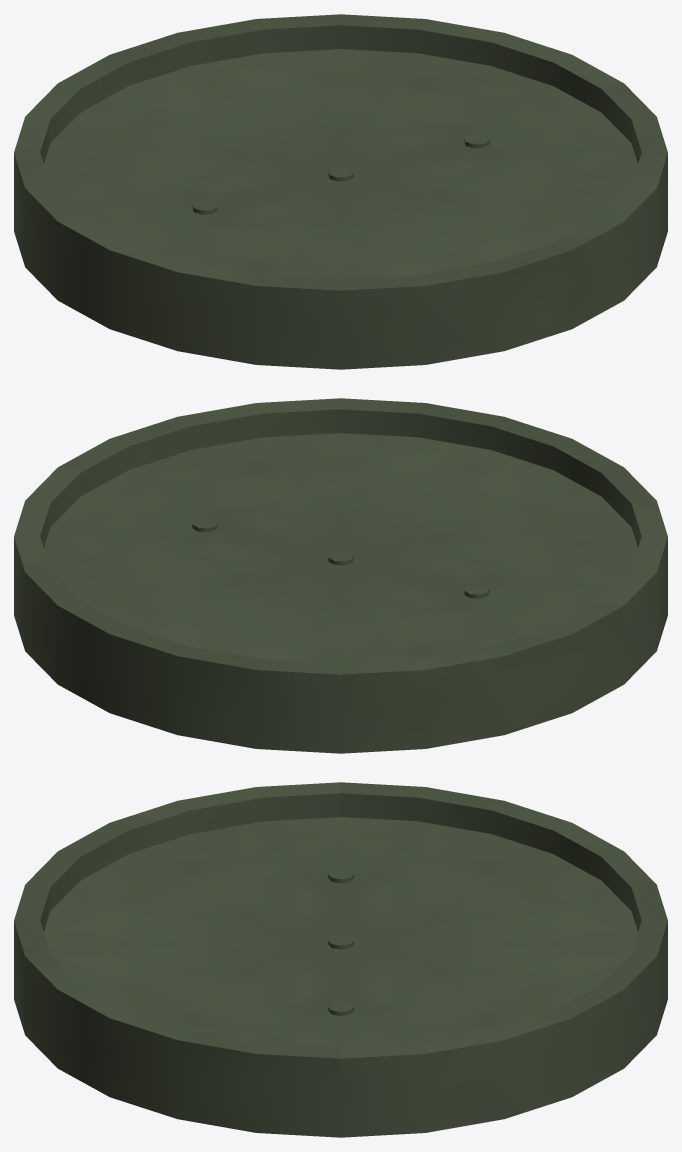
Rendered from parachute.fbx.
3 renders of one model, top to bottom at view 1: azimuth 30°, elevation 25°; view 2: azimuth 150°, elevation 25°; view 3: azimuth 270°, elevation 25°, orthographic.
Parts seen in each view (by area): view 1: mesh, cap; view 2: mesh, cap; view 3: mesh, cap.
Part boxes in pixels (<box>): mesh: <box>14,14,667,369</box>; cap: <box>192,133,489,214</box>; mesh: <box>14,398,667,753</box>; cap: <box>192,517,489,598</box>; mesh: <box>14,782,667,1137</box>; cap: <box>328,868,353,1015</box>.
Size of the model in its own units: 0.9375 by 0.125 by 0.9375.
